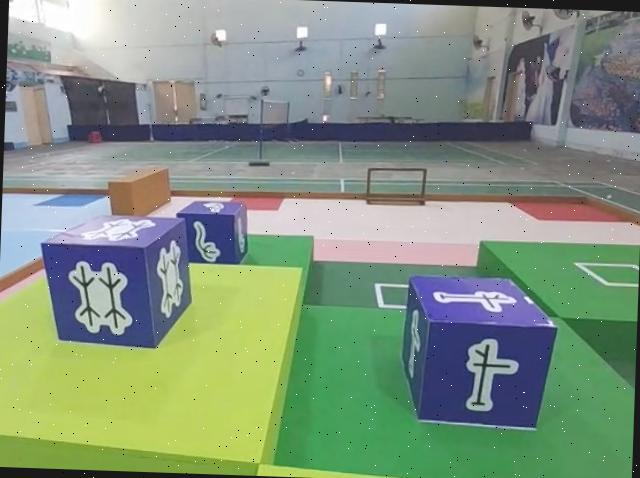R2 Real Blue: (399, 274, 556, 432), (34, 211, 191, 351), (173, 196, 250, 266)
